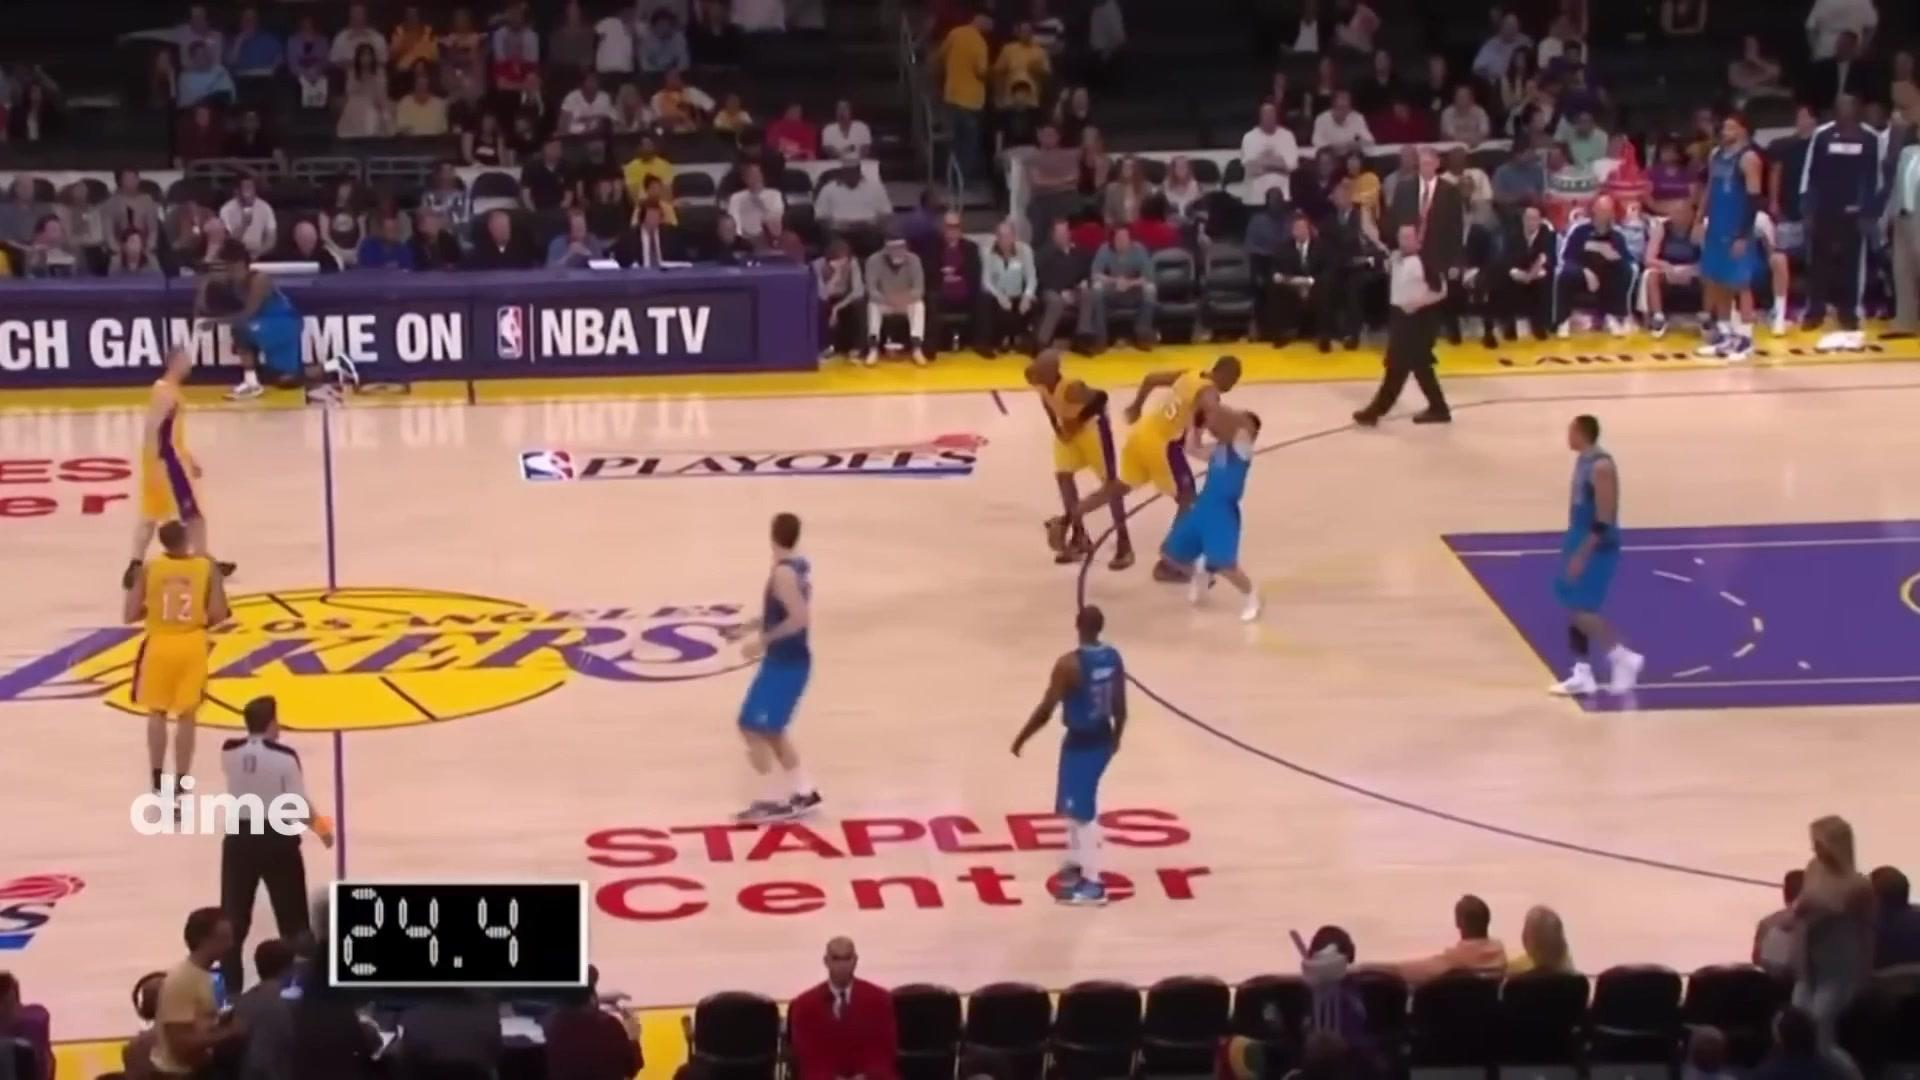foul: (1095, 330, 1299, 631)
